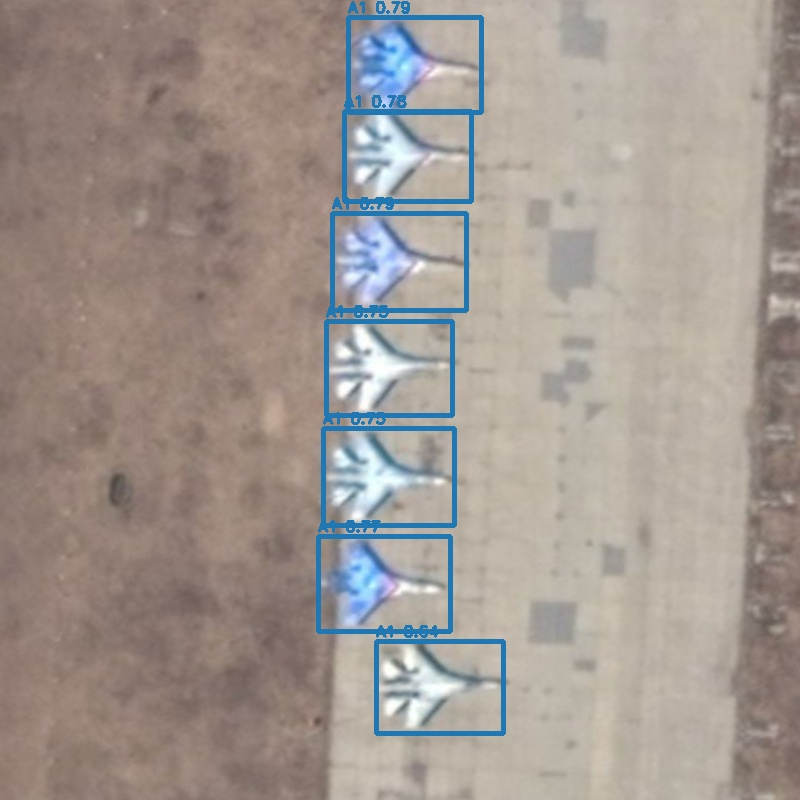A1: (332, 213, 466, 310), (323, 428, 454, 525), (348, 17, 481, 112), (318, 536, 450, 631), (326, 321, 452, 415), (376, 641, 503, 733), (344, 111, 471, 201)
